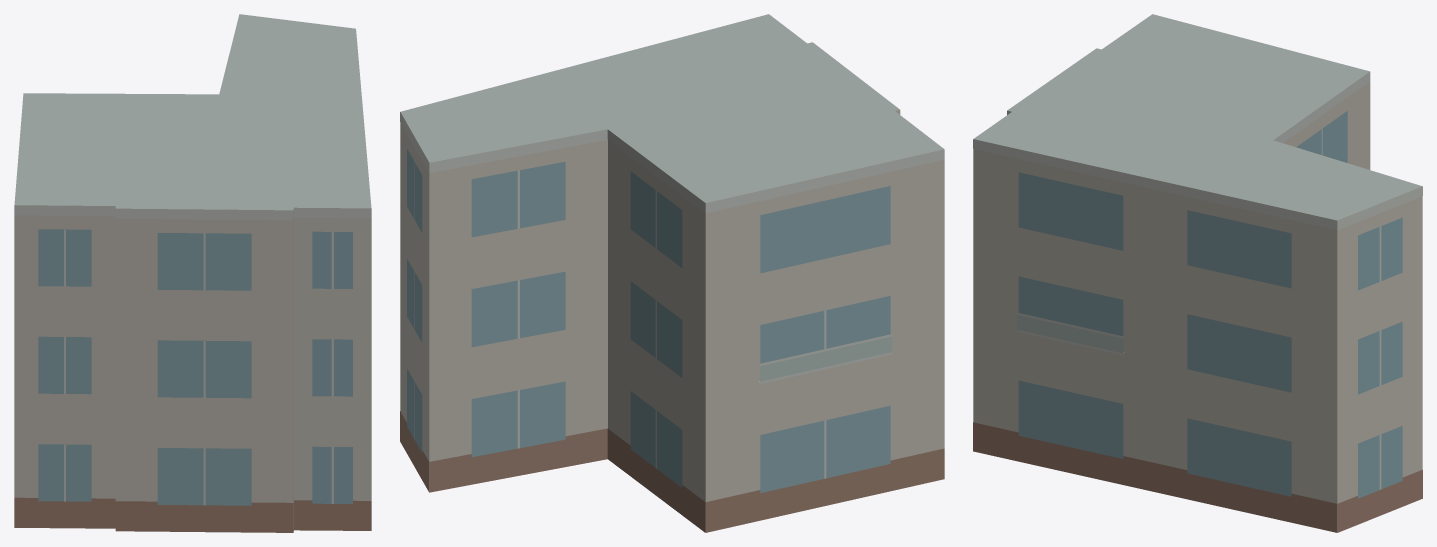
File: survey-upis-32896441.glb
3 views of the same model, side by side, from view 1: azimuth 30°, elevation 25°; view 2: azimuth 150°, elevation 25°; view 3: azimuth 270°, elevation 25° (orthographic). The views are drawn at different scales.
Visible parts, largest first — view 1: survey-upis-32896441.tmp; view 2: survey-upis-32896441.tmp; view 3: survey-upis-32896441.tmp.
Part boxes in pixels (left/top/right/bottom): survey-upis-32896441.tmp: left=14, top=14, right=371, bottom=532; survey-upis-32896441.tmp: left=400, top=14, right=944, bottom=532; survey-upis-32896441.tmp: left=973, top=14, right=1422, bottom=532.
Bounding box in the file's own units: 11.07 × 7.8 × 10.18.
